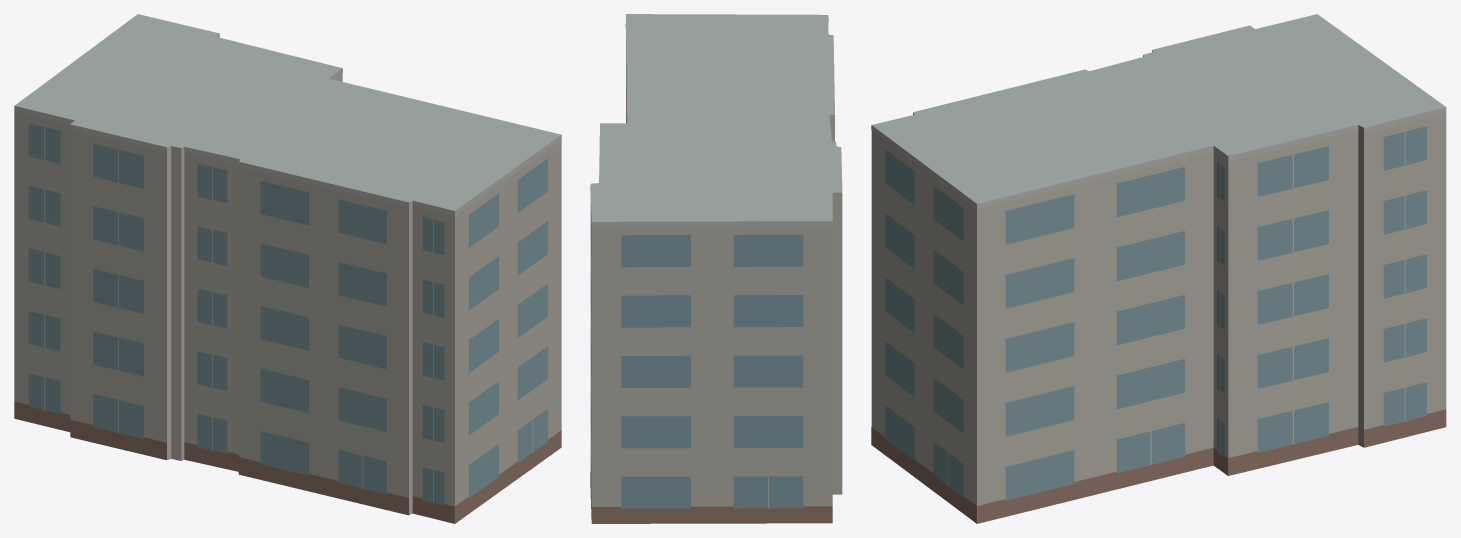
File: survey-upis-32684304.glb
3 views of the same model, side by side, from view 1: azimuth 30°, elevation 25°; view 2: azimuth 150°, elevation 25°; view 3: azimuth 270°, elevation 25° (orthographic). The views are drawn at different scales.
Parts seen in each view (by area): view 1: survey-upis-32684304.tmp; view 2: survey-upis-32684304.tmp; view 3: survey-upis-32684304.tmp.
Part boxes in pixels (x1,y1,x2,y2): survey-upis-32684304.tmp: (14,14,561,523); survey-upis-32684304.tmp: (590,14,842,523); survey-upis-32684304.tmp: (871,14,1446,523).
Bounding box in the file's own units: 18.34 × 14.4 × 23.46.
